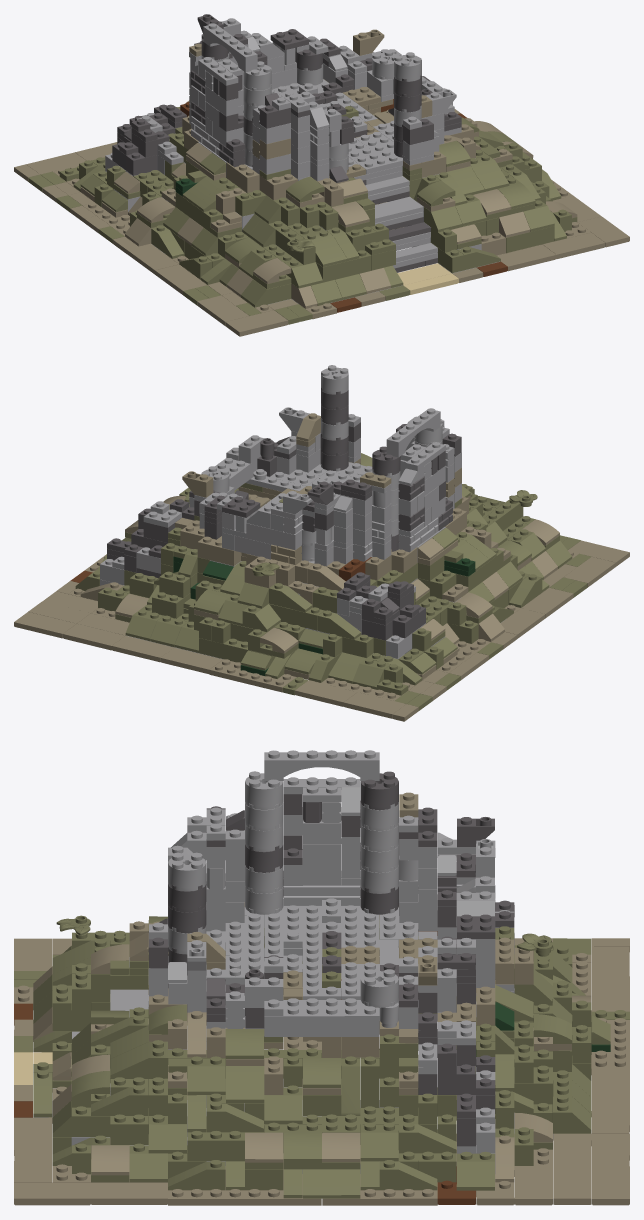
The model's file is weathertop.glb.
3 views of the same model, one above another, from view 1: azimuth 30°, elevation 25°; view 2: azimuth 150°, elevation 25°; view 3: azimuth 270°, elevation 25° (orthographic). The views are drawn at different scales.
Visible parts, largest first — view 1: L34-000, L00-063, L00-069, L07-107, L00-068, L04-132, L10-095, L00-038, L09-008, L00-054, L00-043, L00-059 (+68 smaller); view 2: L00-004, L34-000, L00-005, L00-001, L00-007, L00-006, L00-008, L00-002, L01-004, L19-000, L00-043, L00-054 (+55 smaller); view 3: L16-024, L15-019, L34-000, L00-041, L00-059, L10-095, L00-053, L04-093, L00-035, L00-008, L00-020, L00-016 (+101 smaller).
Part boxes in pixels (left/top/right/bottom): L34-000: left=203, top=23, right=257, bottom=72; L00-063: left=225, top=310, right=288, bottom=336; L00-069: left=543, top=232, right=605, bottom=258; L07-107: left=302, top=230, right=347, bottom=266; L00-068: left=497, top=244, right=556, bottom=271; L04-132: left=316, top=250, right=371, bottom=282; L10-095: left=470, top=155, right=509, bottom=191; L00-038: left=126, top=244, right=178, bottom=274; L09-008: left=374, top=196, right=423, bottom=223; L00-054: left=197, top=295, right=249, bottom=325; L00-043: left=155, top=264, right=206, bottom=294; L00-059: left=578, top=216, right=629, bottom=247; L00-004: left=209, top=659, right=296, bottom=692; L34-000: left=386, top=408, right=440, bottom=457; L00-005: left=160, top=647, right=222, bottom=673; L00-001: left=343, top=692, right=405, bottom=718; L00-007: left=63, top=624, right=125, bottom=650; L00-006: left=111, top=635, right=173, bottom=662; L00-008: left=14, top=612, right=76, bottom=638; L00-002: left=295, top=680, right=357, bottom=706; L01-004: left=199, top=638, right=275, bottom=662; L19-000: left=246, top=523, right=301, bottom=549; L00-043: left=521, top=587, right=573, bottom=618; L00-054: left=564, top=557, right=615, bottom=587; L16-024: left=264, top=998, right=379, bottom=1036; L15-019: left=264, top=899, right=379, bottom=953; L34-000: left=264, top=750, right=379, bottom=780; L00-041: left=168, top=1079, right=321, bottom=1205; L00-059: left=14, top=1182, right=90, bottom=1205; L10-095: left=110, top=1040, right=167, bottom=1078; L00-053: left=91, top=1182, right=167, bottom=1204; L04-093: left=187, top=1131, right=244, bottom=1161; L00-035: left=322, top=1145, right=437, bottom=1205; L00-008: left=591, top=1166, right=629, bottom=1205; L00-020: left=514, top=1166, right=552, bottom=1205; L00-016: left=553, top=1166, right=591, bottom=1204.
Size of the model in its own units: 0.256 by 0.12 by 0.256.
